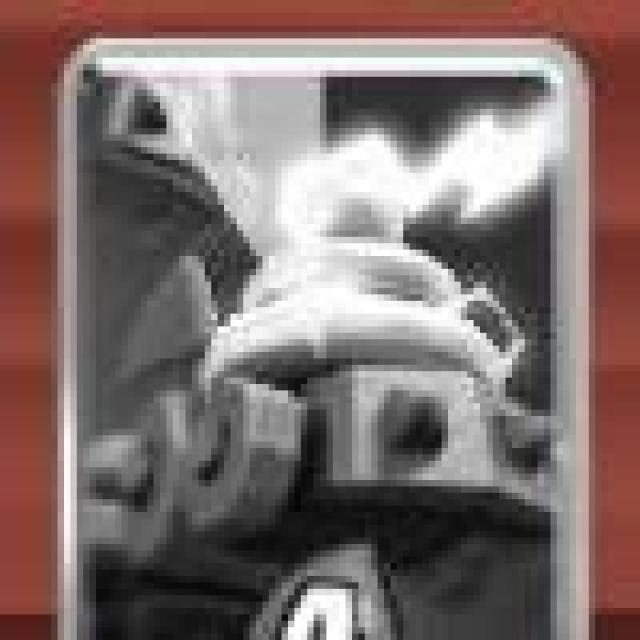Zappies: (56, 41, 590, 640)
